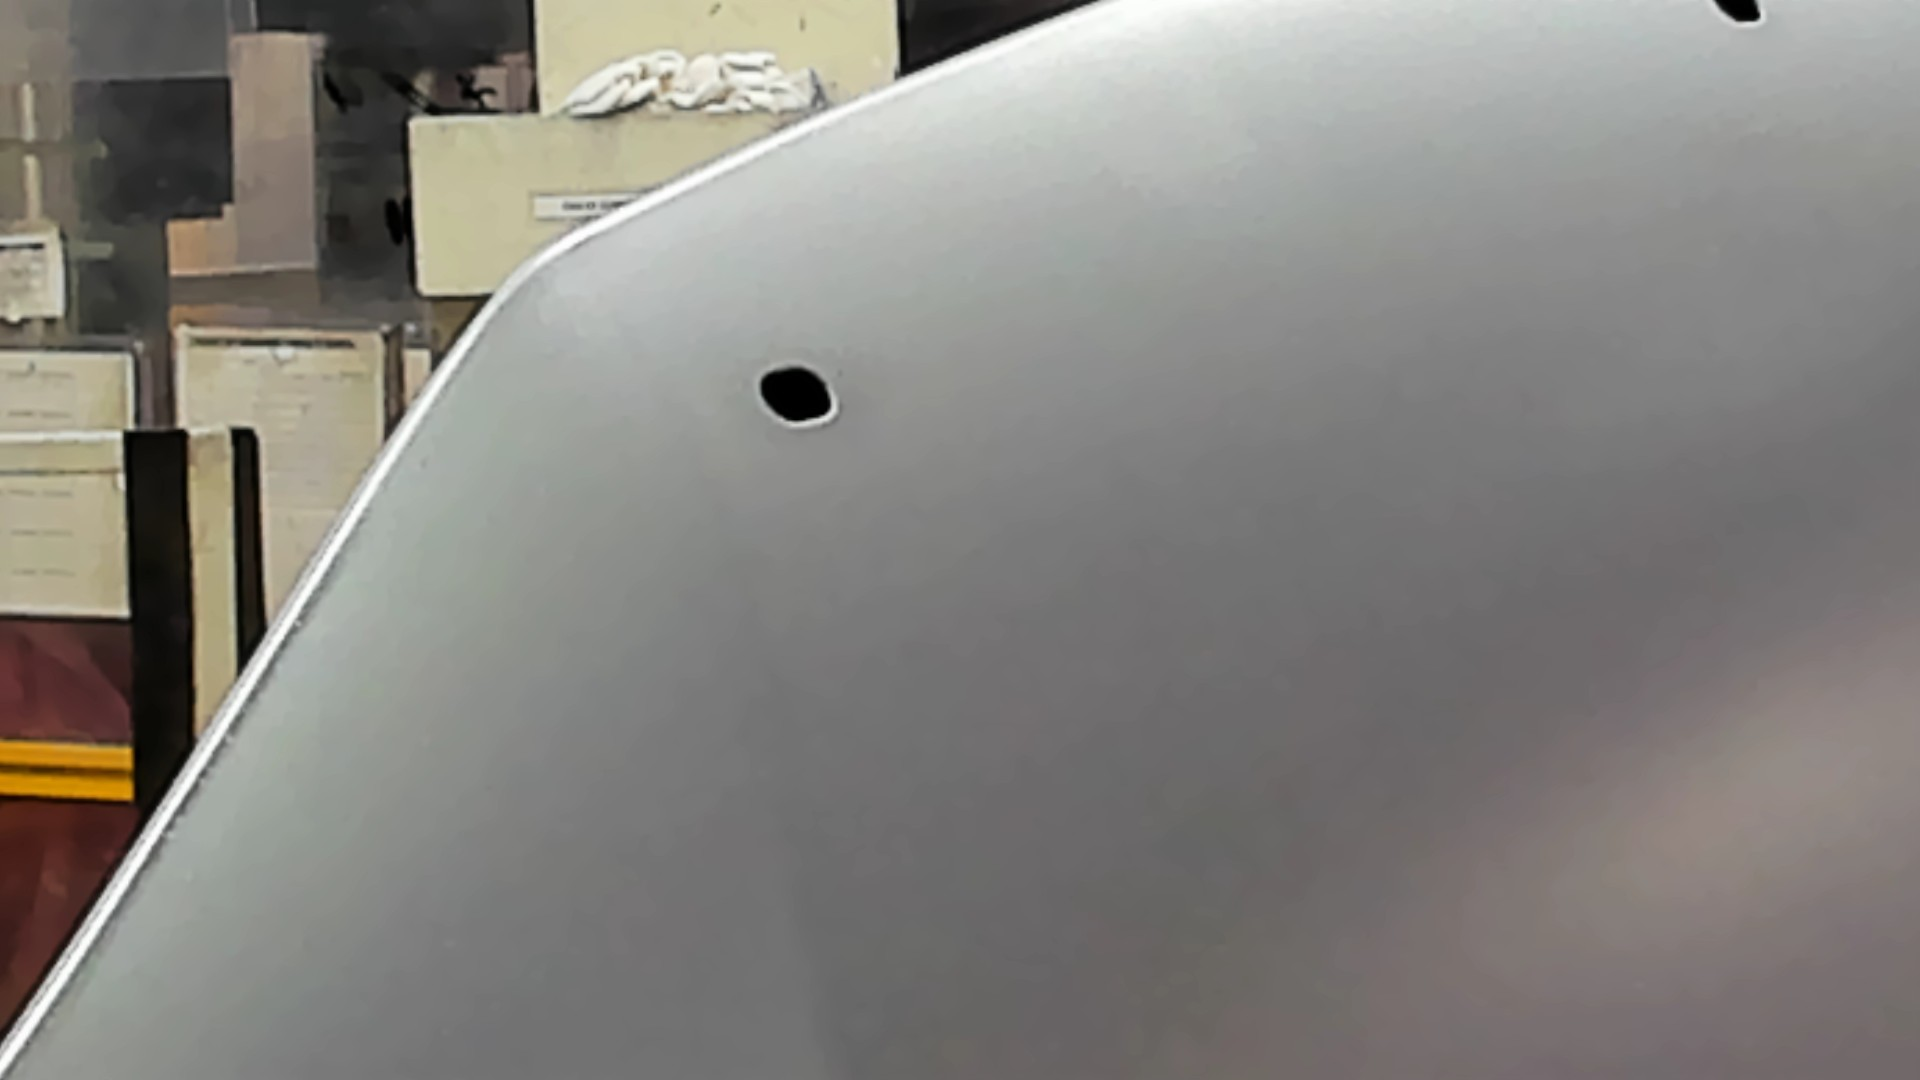amorfo: (746, 359, 848, 435)
capo: (942, 109, 1920, 1080)
